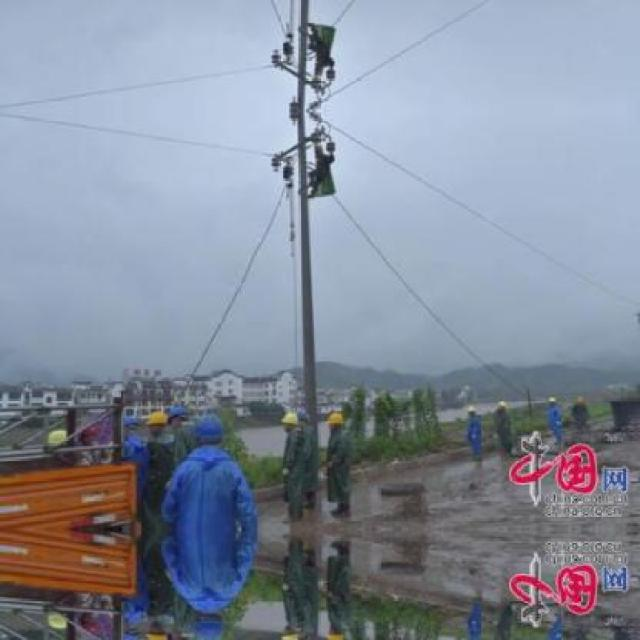helmet: (188, 407, 227, 451), (188, 604, 228, 638), (162, 402, 188, 426), (144, 408, 167, 432), (118, 409, 140, 434), (322, 408, 343, 429), (76, 426, 96, 448), (76, 609, 96, 631), (118, 623, 142, 639), (280, 411, 298, 432), (143, 624, 168, 638), (280, 624, 298, 638), (322, 628, 344, 638), (162, 631, 189, 638)
